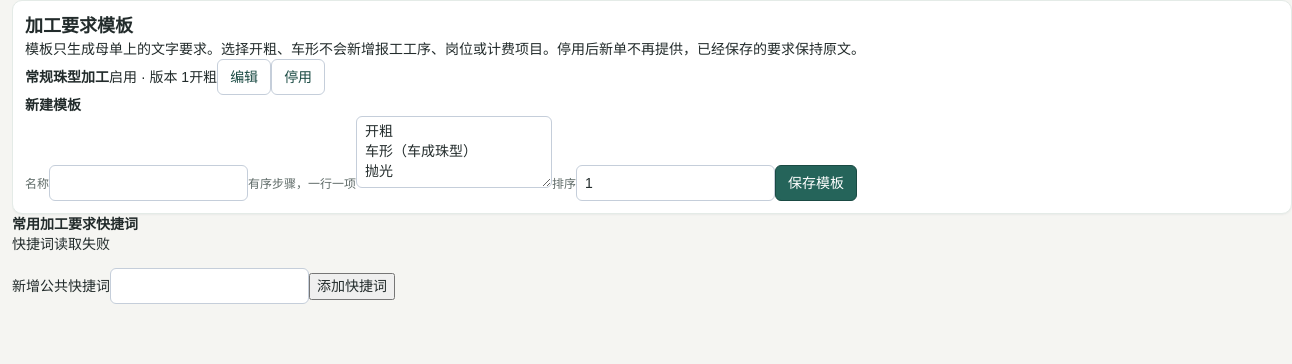
Test: 加工要求模板维护 › 版本冲突时重新载入，不算保存成功
Click the button "编辑". click: (244, 77)
box: [217, 59, 271, 95]
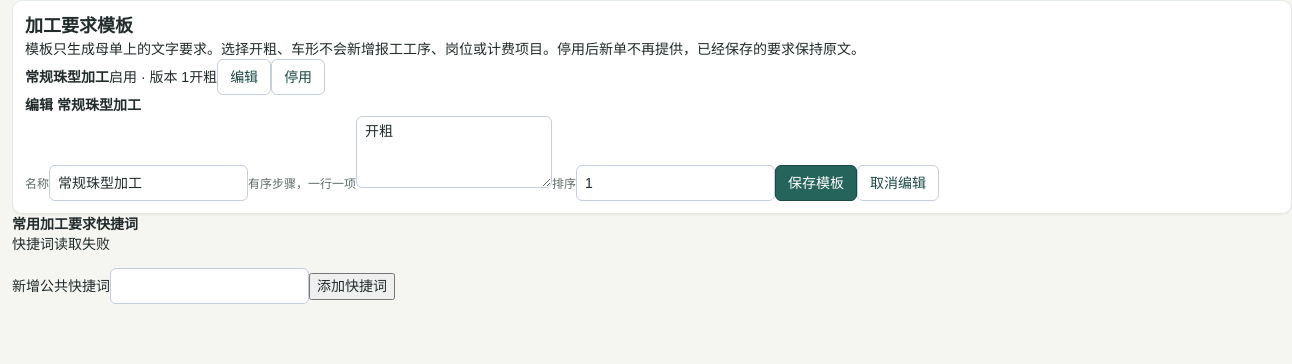
Replace the text in the field named "模板名称" with "想改的名称". click: (148, 183)
box: [49, 165, 248, 201]
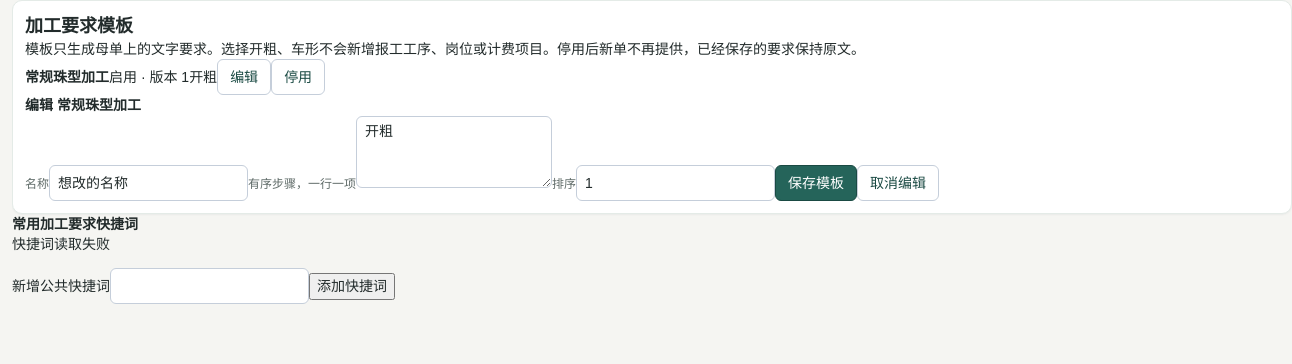
Submit the form "编辑 常规珠型加工 名称 有序步骤，一行一项 排序 保存模板 取消编辑", box [25, 97, 939, 201]
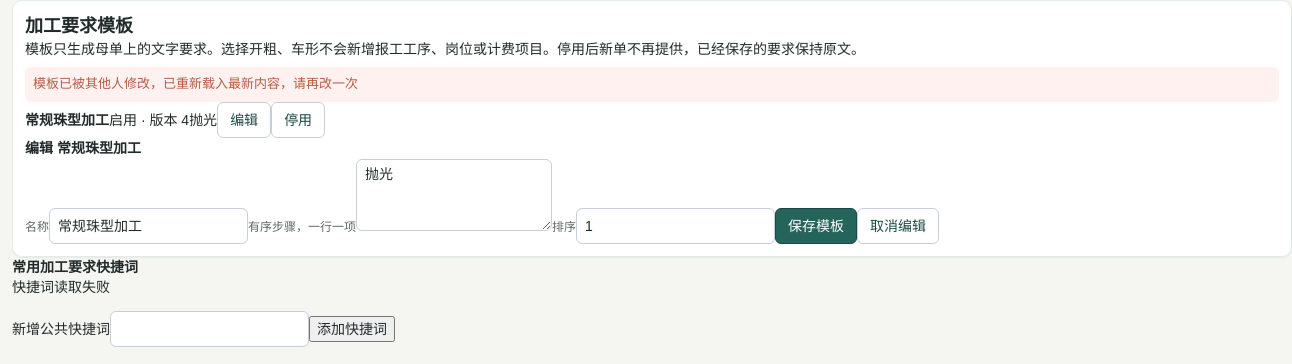
Now the text "已重新载入最新内容" is shown, box [33, 76, 358, 91]
Now the text box named "模板步骤" holds "抛光", box [356, 158, 552, 230]
